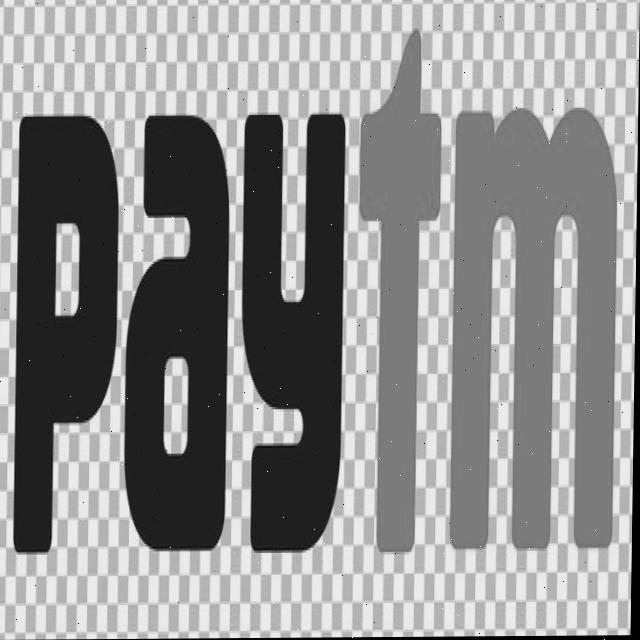fully_visible: (6, 65, 627, 589)
